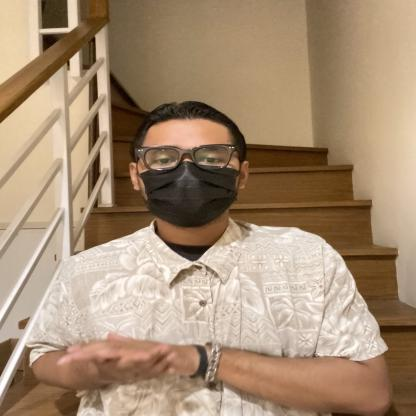Love: (27, 312, 284, 399)
